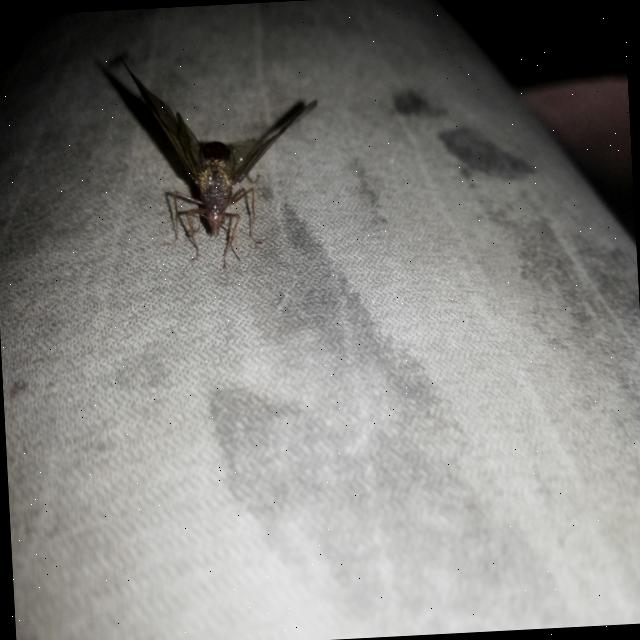Alive-Male-Alate: (120, 45, 326, 274)
